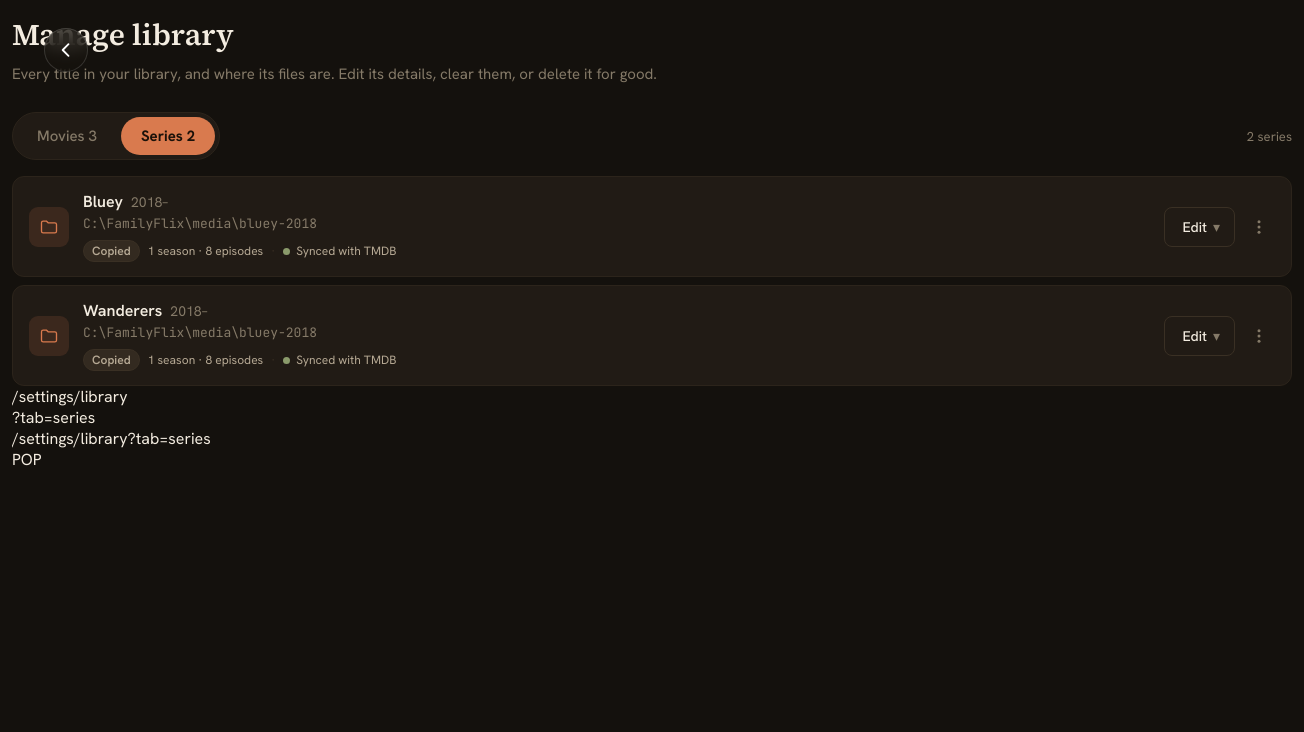
ManageLibrary — the tabs › omits tab at movies, again as a replace
Click the button "Movies 3". click: (67, 136)
box: [17,117,117,155]
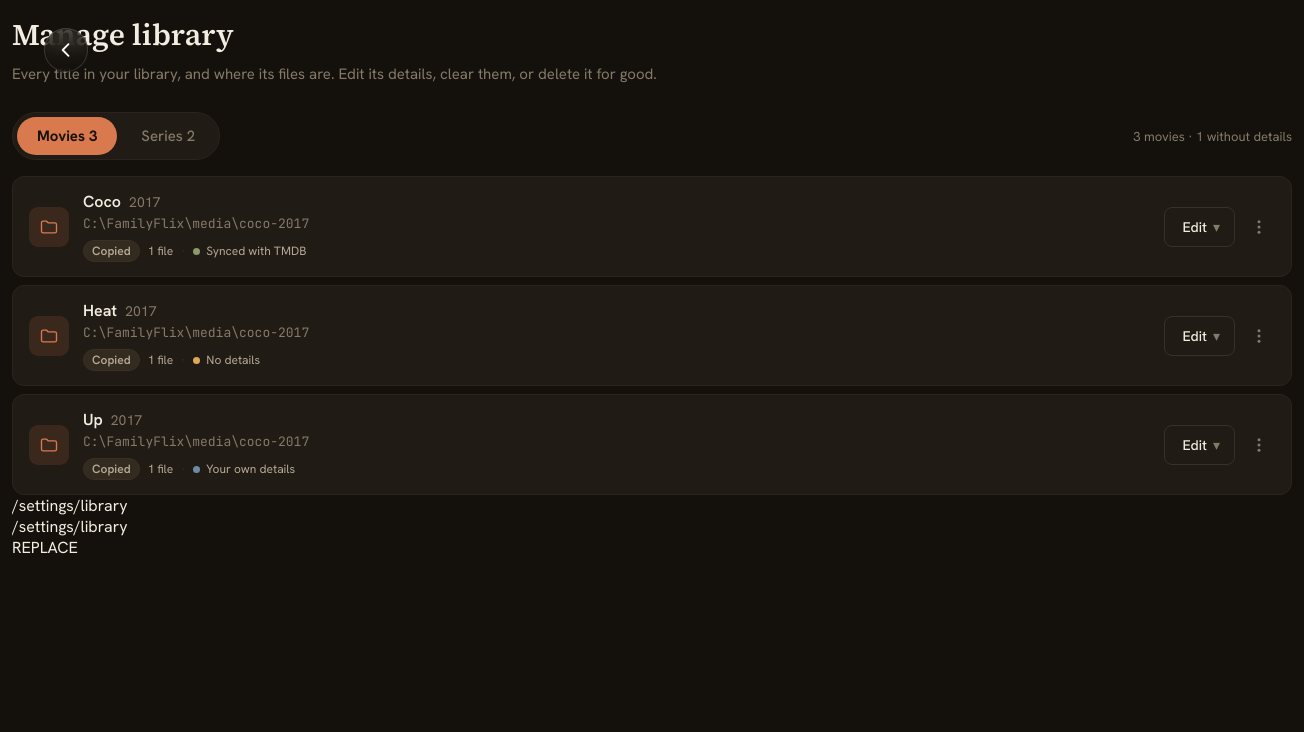
Expected: the text with test id "pathname" reads "/settings/library", [12,495,128,516]
Expected: the text with test id "navigationType" reads "REPLACE", [12,537,78,558]
Expected: the text "Heat" is shown, [83,300,117,321]
